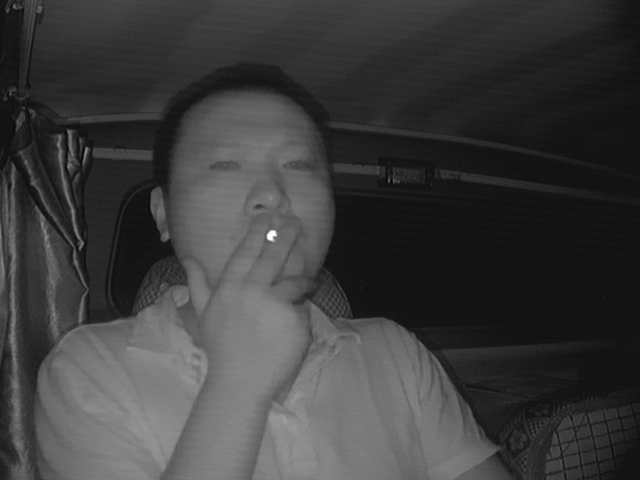hand: (227, 214, 315, 338)
